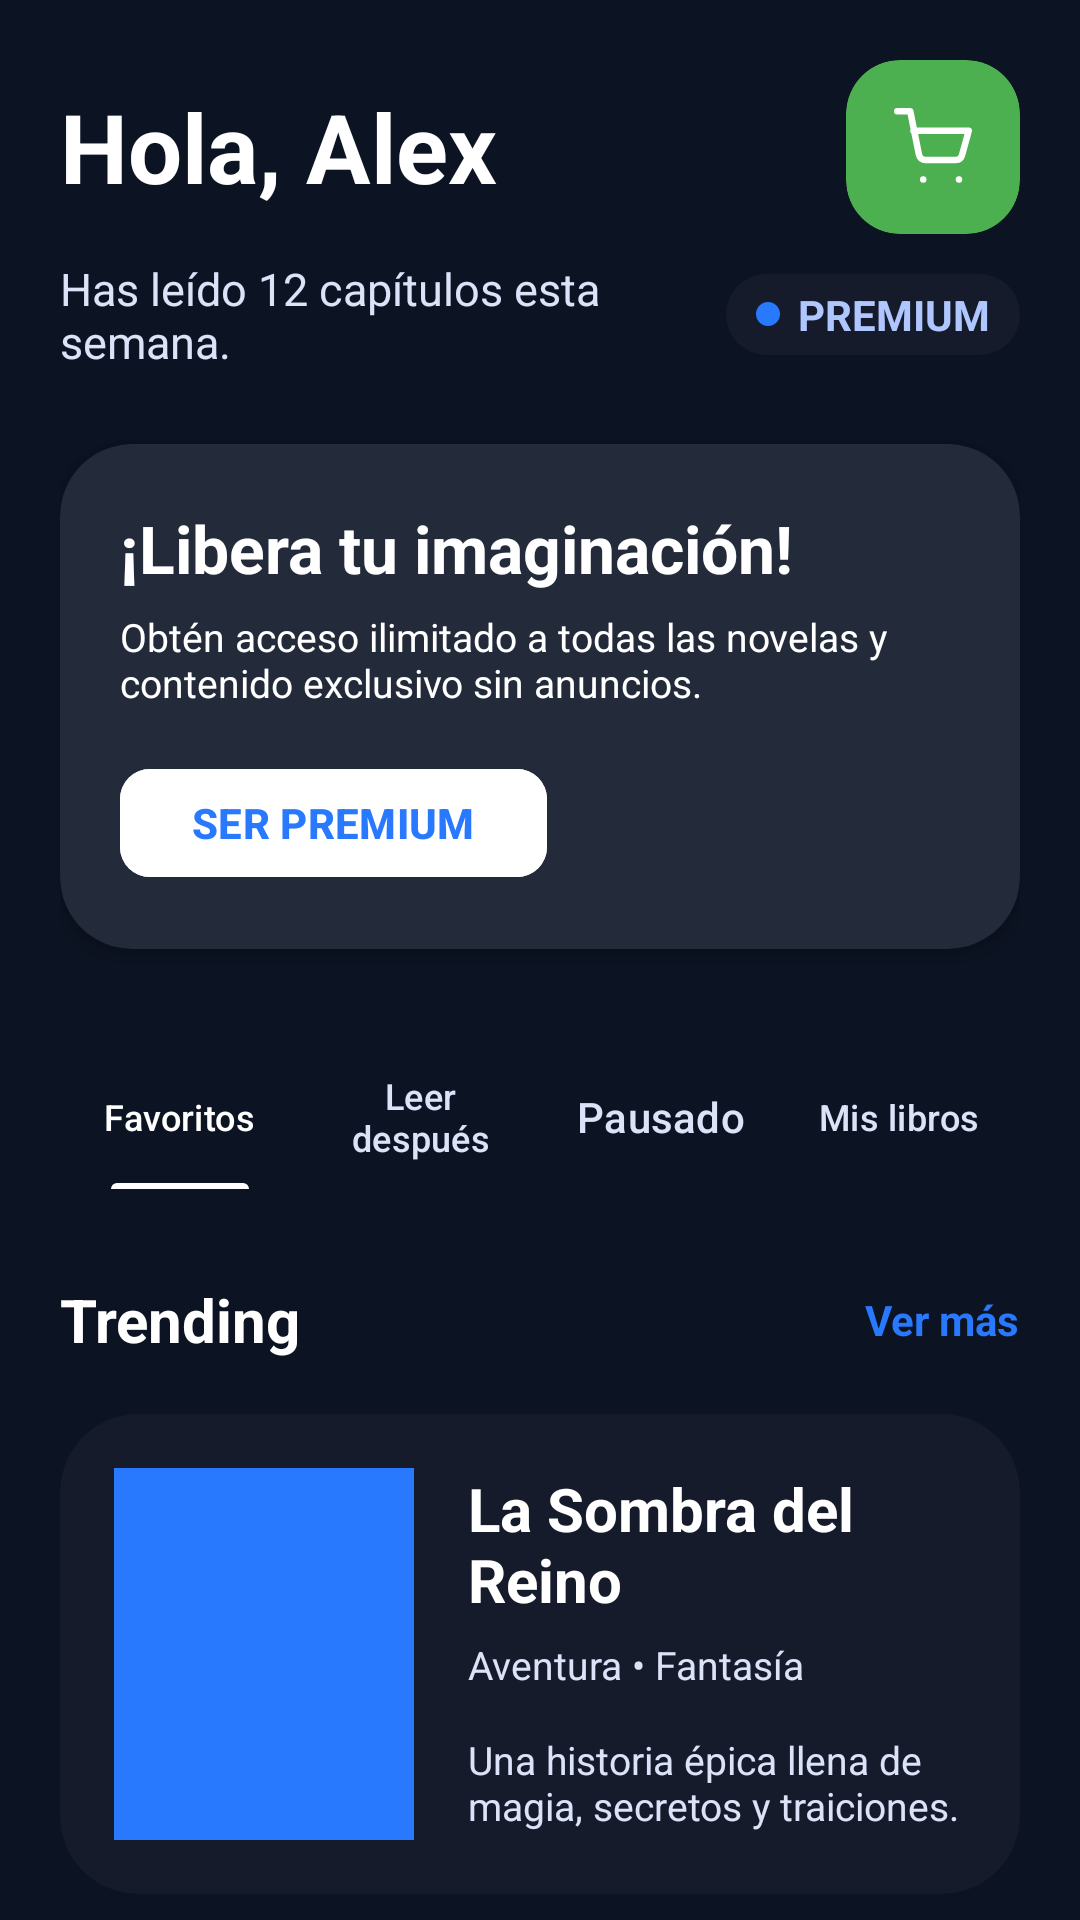

Point at icon controls on the screen. Image size 1080x1920, points as (x=x, y=y).
carrito: (x=933, y=147)
